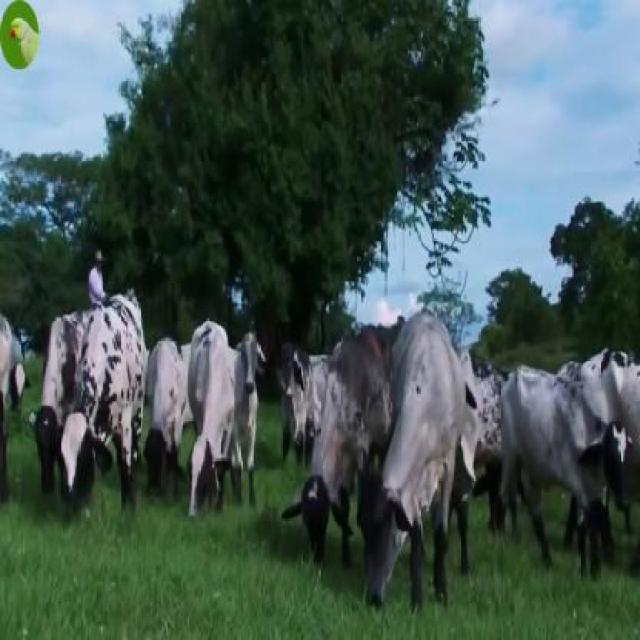Cow: (59, 294, 148, 523)
